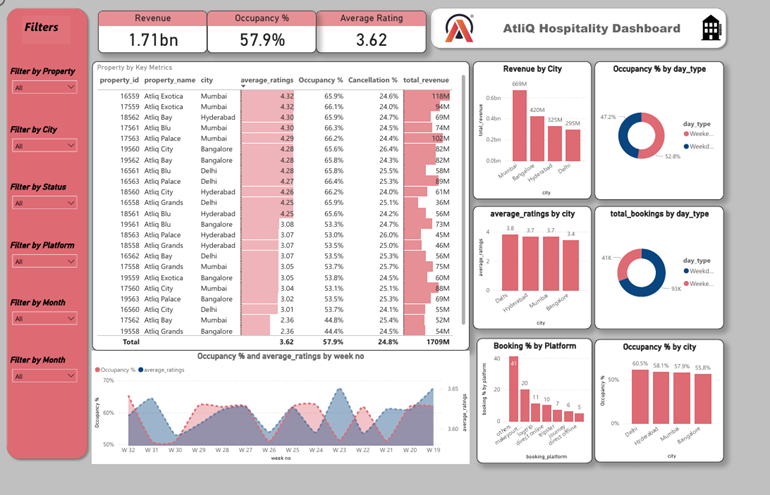

The page's visual inventory and layout, read from the dashboard file:
{"tool":"powerbi","page":{"name":"Insights","canvas":[1800,1100],"ordinal":0},"visuals":[{"type":"actionButton","box":[0,0,100,40],"z":0},{"type":"card","title":"Revenue","fields":{"Values":["key_measures.total_revenue"]},"box":[226.7,43.3,223.7,86.7],"z":0,"group":"g3"},{"type":"image","box":[911.7,43.3,113.2,70],"z":0,"group":"g2"},{"type":"card","title":"Average Rating","fields":{"Values":["key_measures.average_ratings"]},"box":[674.1,43.3,225.9,86.7],"z":1000,"group":"g3"},{"type":"textbox","box":[936.5,57.7,608.5,43.2],"z":1000,"group":"g2"},{"type":"tableEx","title":"Property by Key Metrics","fields":{"Values":["dim_hotels.property_id","dim_hotels.property_name","dim_hotels.city","key_measures.average_ratings","key_measures.occupancy %","key_measures.cancellation %","key_measures.total_revenue"]},"box":[213.3,148.3,775,595],"z":1000},{"type":"card","title":"Occupancy %","fields":{"Values":["key_measures.Occupancy %"]},"box":[450.4,43.3,223.7,86.7],"z":2000,"group":"g3"},{"type":"image","box":[1423.7,45.5,124.7,67.8],"z":2000,"group":"g2"},{"type":"clusteredColumnChart","title":"Booking % by Platform","fields":{"Category":["fact_bookings.booking_platform"],"Y":["key_measures.booking % by platform"]},"box":[1003.3,718.3,236.7,256.7],"z":2000},{"type":"clusteredColumnChart","title":"Revenue by City","fields":{"Category":["dim_hotels.city"],"Y":["key_measures.total_revenue"]},"box":[988.3,148.3,250,285],"z":3000},{"type":"shape","box":[30,30,183.3,945],"z":4000},{"type":"group","id":"g1","title":"Group 1","box":[40,158.3,153.3,585],"z":5000,"group":"g4"},{"type":"slicer","title":"Filter by Property","fields":{"Values":["dim_hotels.property_name"]},"box":[40,158.3,153.3,108.6],"z":5000,"group":"g1"},{"type":"textbox","box":[70,54.3,98.6,58.6],"z":6000},{"type":"shape","box":[900,30,625,100],"z":7000},{"type":"group","id":"g2","title":"Group 2","box":[911.7,43.3,636.7,70],"z":8000},{"type":"lineChart","fields":{"Category":["dim_date.week no"],"Y2":["key_measures.average_ratings"],"Y":["key_measures.Occupancy %"]},"box":[213.3,743.3,775,231.7],"z":9000},{"type":"slicer","title":"Filter by City","fields":{"Values":["dim_hotels.city"]},"box":[40,277.4,153.3,108.6],"z":9500,"group":"g1"},{"type":"group","id":"g3","title":"Group 3","box":[226.7,43.3,673.3,86.7],"z":10000},{"type":"slicer","title":"Filter by Status","fields":{"Values":["fact_bookings.booking_status"]},"box":[40,396.5,153.3,108.6],"z":10000,"group":"g1"},{"type":"slicer","title":"Filter by Platform","fields":{"Values":["fact_bookings.booking_platform"]},"box":[40,515.6,153.3,108.6],"z":10500,"group":"g1"},{"type":"slicer","title":"Filter by Month","fields":{"Values":["dim_date.date.Variation.Date Hierarchy.Month"]},"box":[40,634.7,153.3,108.6],"z":11000,"group":"g1"},{"type":"clusteredColumnChart","fields":{"Y":["key_measures.Occupancy %"],"Category":["dim_hotels.city"]},"box":[1246.7,720,265,253.3],"z":11000},{"type":"slicer","title":"Filter by Month","fields":{"Values":["dim_date.week no"]},"box":[40,751.6,153.3,108.3],"z":11000,"group":"g4"},{"type":"clusteredColumnChart","fields":{"Category":["dim_hotels.city"],"Y":["key_measures.average_ratings"]},"box":[995,446.7,243.3,253.3],"z":12000},{"type":"donutChart","fields":{"Category":["dim_date.day_type"],"Y":["key_measures.Occupancy %"]},"box":[1246.7,148.3,265,285],"z":13000},{"type":"donutChart","fields":{"Category":["dim_date.day_type"],"Y":["key_measures.total_bookings"]},"box":[1246.7,446.7,265,253.3],"z":14000},{"type":"group","id":"g4","title":"Group 4","box":[40,158.3,153.3,701.7],"z":14001}]}

Visuals, with their boxes on the page's 1800x1100 design canvas (x1, y1, x2, y2). These are canvas units, not pixel positions in the 770x495 screenshot, which may show the page scaled, cropped or inside an application window:
actionButton: 0,0,100,40
"Revenue" card: 227,43,450,130
image: 912,43,1025,113
"Average Rating" card: 674,43,900,130
textbox: 936,58,1545,101
"Property by Key Metrics" tableEx: 213,148,988,743
"Occupancy %" card: 450,43,674,130
image: 1424,46,1548,113
"Booking % by Platform" clusteredColumnChart: 1003,718,1240,975
"Revenue by City" clusteredColumnChart: 988,148,1238,433
shape: 30,30,213,975
"Group 1" group: 40,158,193,743
"Filter by Property" slicer: 40,158,193,267
textbox: 70,54,169,113
shape: 900,30,1525,130
"Group 2" group: 912,43,1548,113
lineChart - dim_date.week no x key_measures.average_ratings: 213,743,988,975
"Filter by City" slicer: 40,277,193,386
"Group 3" group: 227,43,900,130
"Filter by Status" slicer: 40,396,193,505
"Filter by Platform" slicer: 40,516,193,624
"Filter by Month" slicer: 40,635,193,743
clusteredColumnChart - key_measures.Occupancy % x dim_hotels.city: 1247,720,1512,973
"Filter by Month" slicer: 40,752,193,860
clusteredColumnChart - dim_hotels.city x key_measures.average_ratings: 995,447,1238,700
donutChart - dim_date.day_type x key_measures.Occupancy %: 1247,148,1512,433
donutChart - dim_date.day_type x key_measures.total_bookings: 1247,447,1512,700
"Group 4" group: 40,158,193,860
